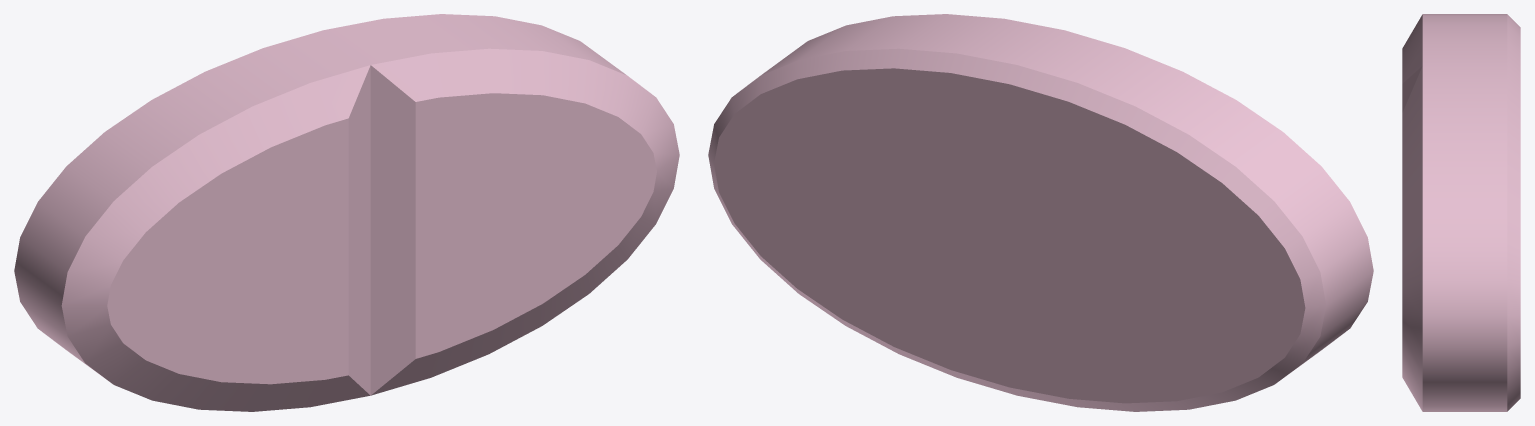
File: pill-3.glb
3 views of the same model, side by side, from view 1: azimuth 30°, elevation 25°; view 2: azimuth 150°, elevation 25°; view 3: azimuth 270°, elevation 25° (orthographic). The views are drawn at different scales.
Visible parts, largest first — view 1: Pill3; view 2: Pill3; view 3: Pill3.
Boxes of the visible parts, x1,y1,x2,y2 form: Pill3: [14, 14, 679, 411]; Pill3: [708, 14, 1373, 411]; Pill3: [1402, 14, 1520, 411].
Bounding box in the file's own units: 0.1979 × 0.1012 × 0.0369.
